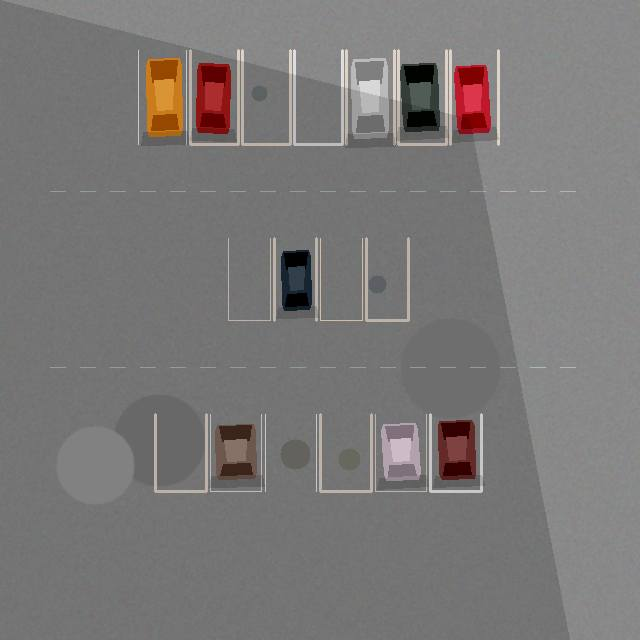space-empty: (242, 50, 290, 144), (294, 50, 342, 144), (155, 414, 206, 491), (265, 414, 316, 491), (320, 414, 371, 491), (228, 238, 270, 320), (320, 238, 362, 320), (366, 238, 408, 320)
space-occupied: (138, 50, 186, 144), (190, 50, 238, 144), (346, 50, 394, 144), (398, 50, 446, 144), (450, 50, 498, 144), (210, 414, 261, 491), (375, 414, 426, 491), (430, 414, 481, 491), (274, 238, 316, 320)
